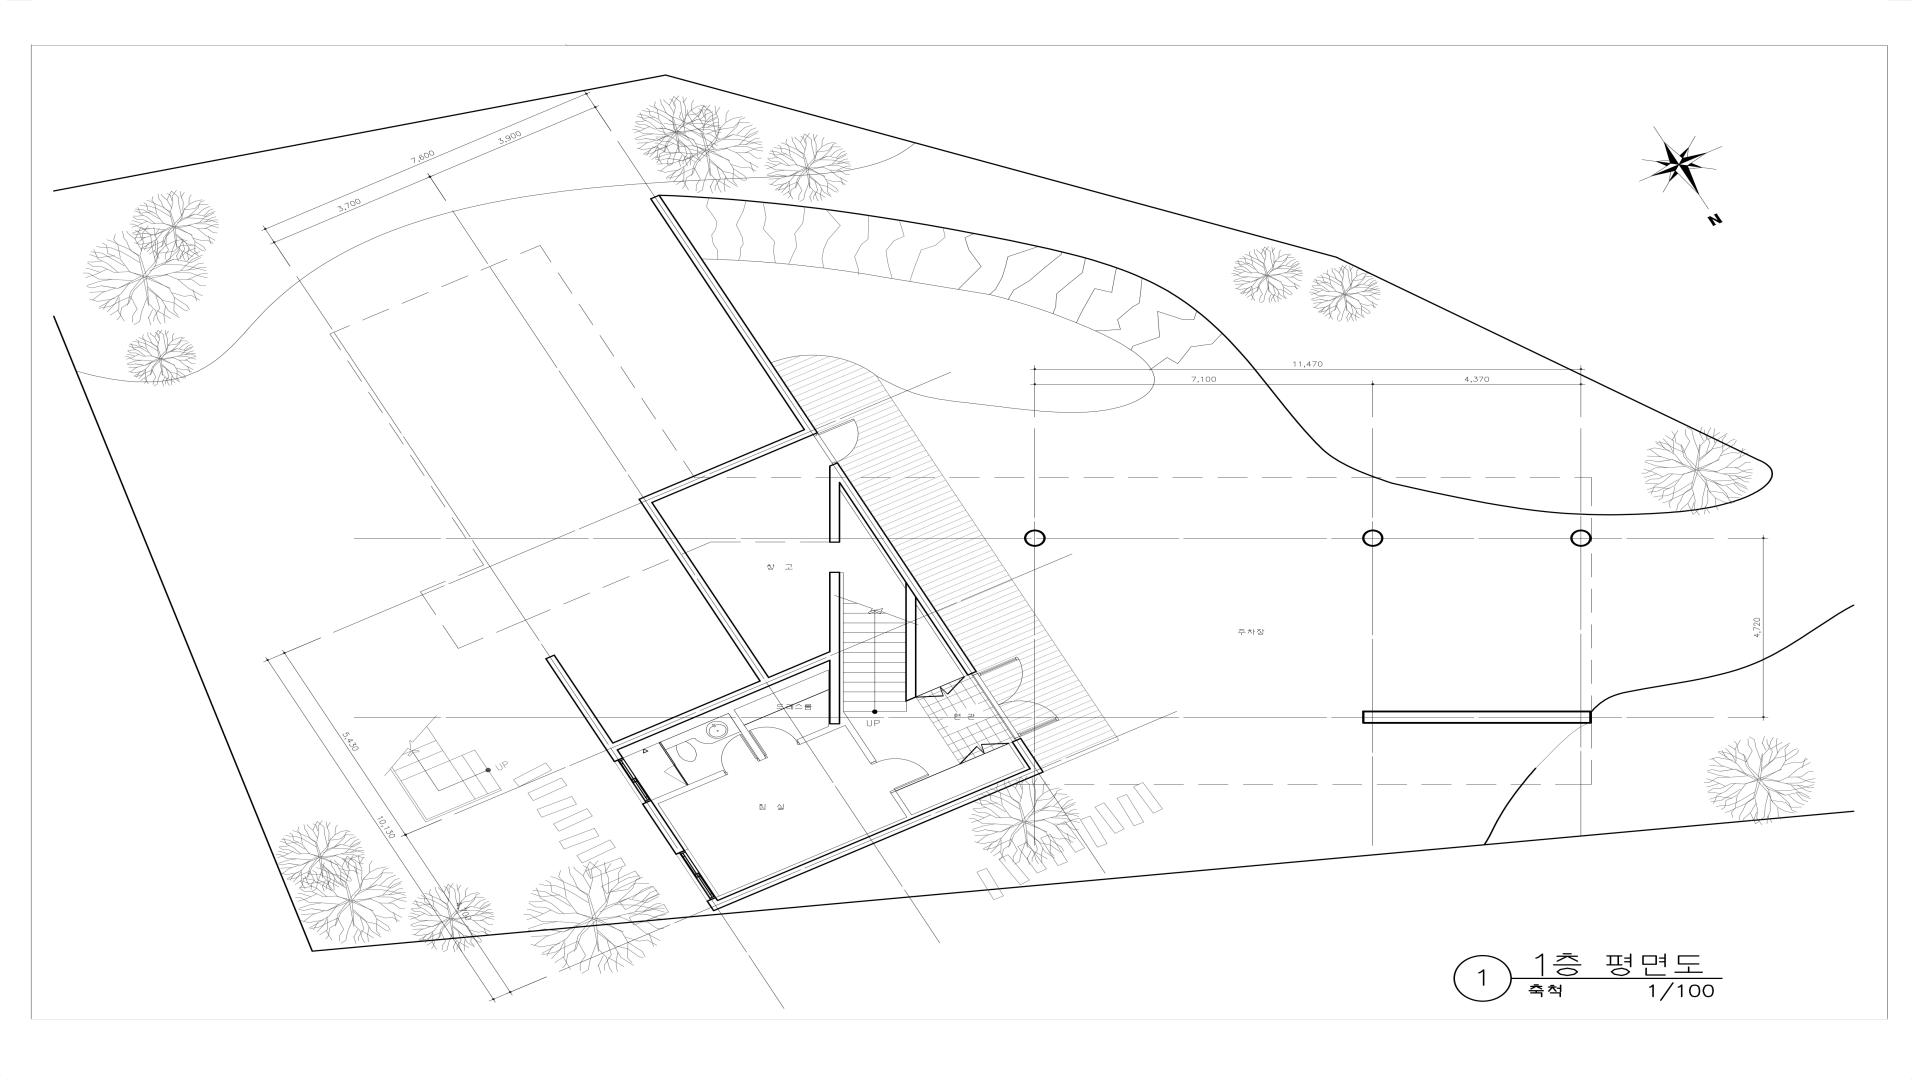door: (972, 655, 1060, 740), (870, 746, 930, 793), (814, 418, 872, 464), (708, 735, 760, 775), (748, 717, 799, 758), (662, 765, 688, 789)
wall: (717, 769, 1035, 907), (650, 194, 819, 438), (837, 463, 977, 675), (644, 502, 774, 688), (638, 430, 808, 506), (613, 680, 765, 750), (545, 654, 613, 746), (1362, 711, 1592, 724), (651, 770, 727, 806), (724, 703, 766, 761), (642, 800, 686, 855), (769, 651, 829, 684), (796, 712, 851, 745), (845, 723, 877, 764), (906, 583, 916, 702), (1011, 737, 1043, 777), (829, 572, 840, 662), (829, 463, 840, 542), (829, 661, 840, 724), (890, 791, 914, 819), (658, 742, 675, 765), (707, 897, 723, 911), (609, 750, 624, 762), (604, 742, 618, 754)
window: (676, 849, 719, 901), (615, 758, 651, 803)
